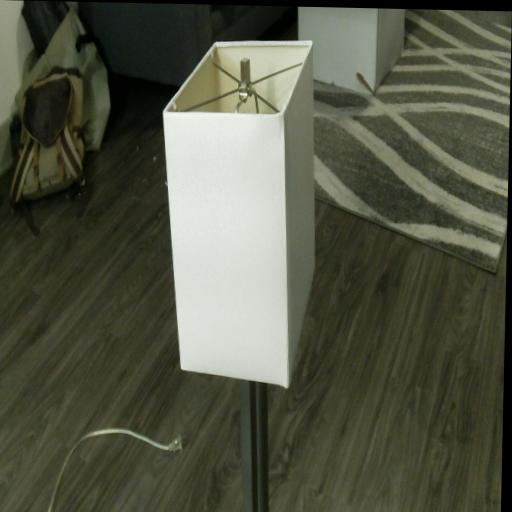lamp: (155, 36, 322, 512)
